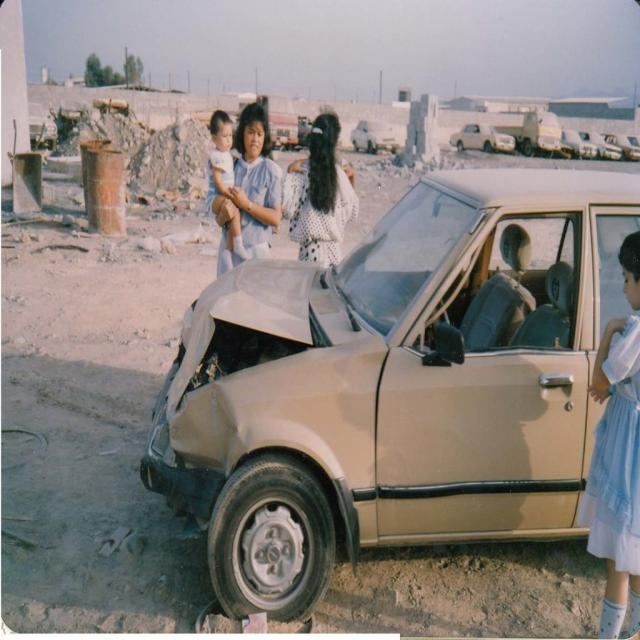car: (146, 174, 620, 620), (448, 118, 514, 154), (350, 112, 403, 153), (583, 121, 618, 157), (564, 126, 595, 155), (619, 129, 639, 158)
